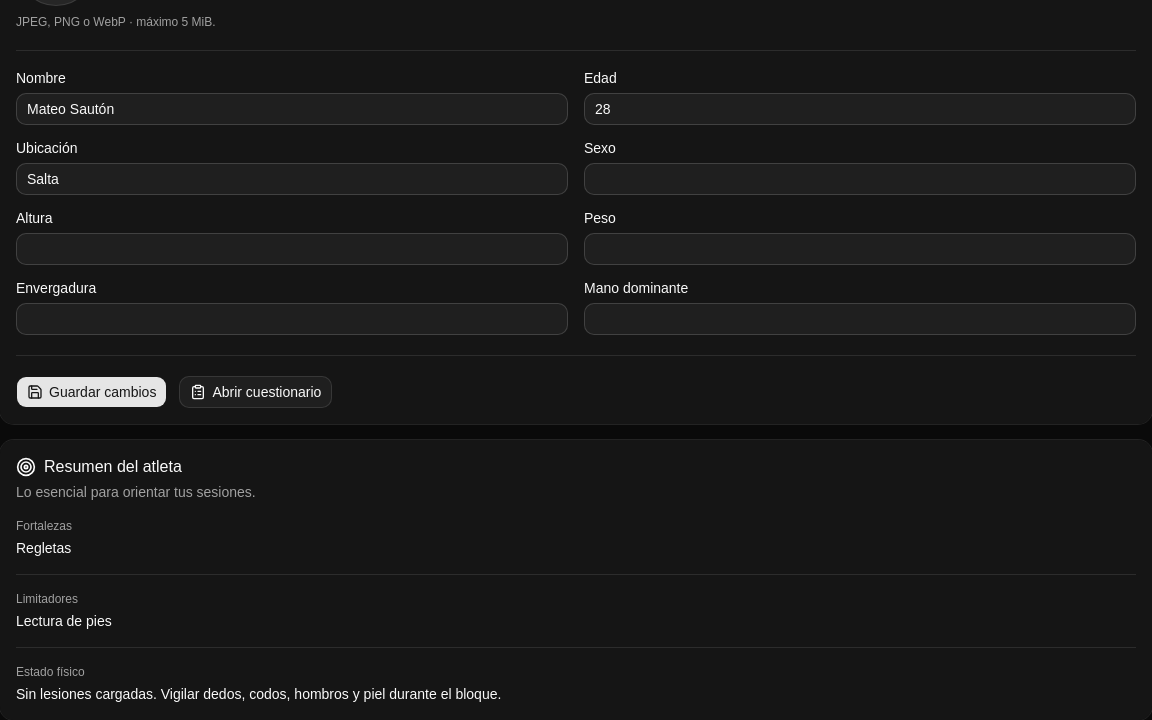
Scenario: UserProfile › announces a recoverable cloud synchronization warning
(page scrolled)
Click the button "Guardar cambios". click: (92, 392)
box: [16,376,167,408]
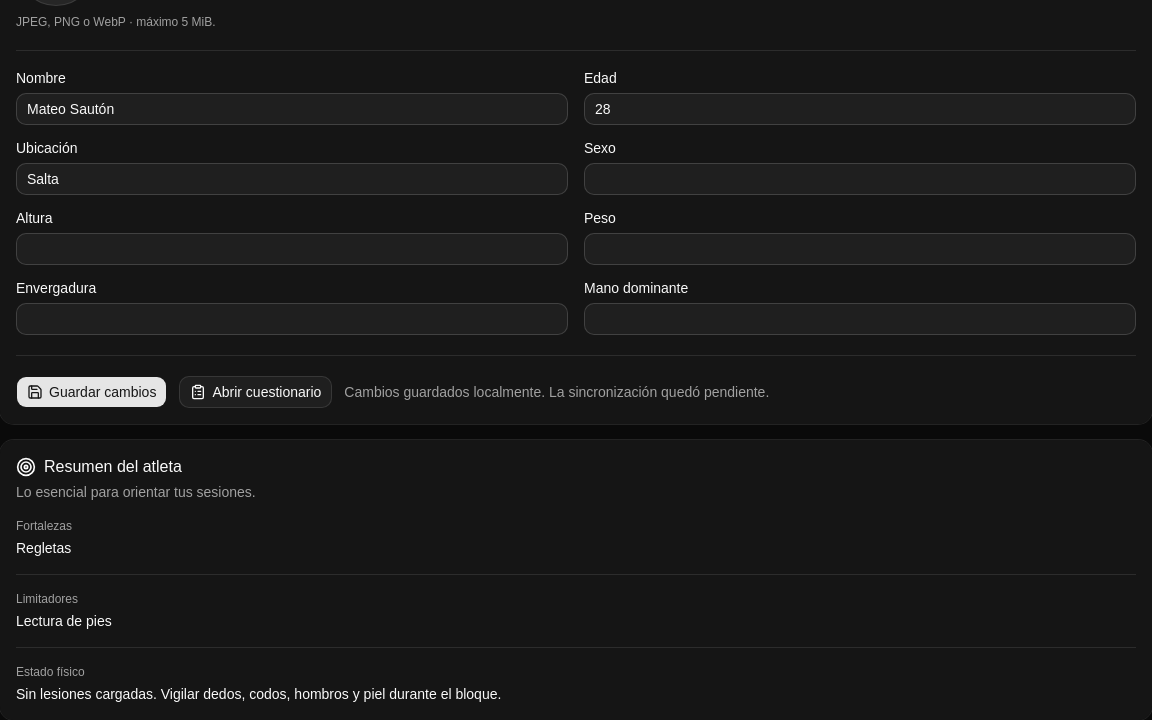
Now the text "Cambios guardados localmente. La sincronización quedó pendiente." is shown, box [344,382,769,402]
